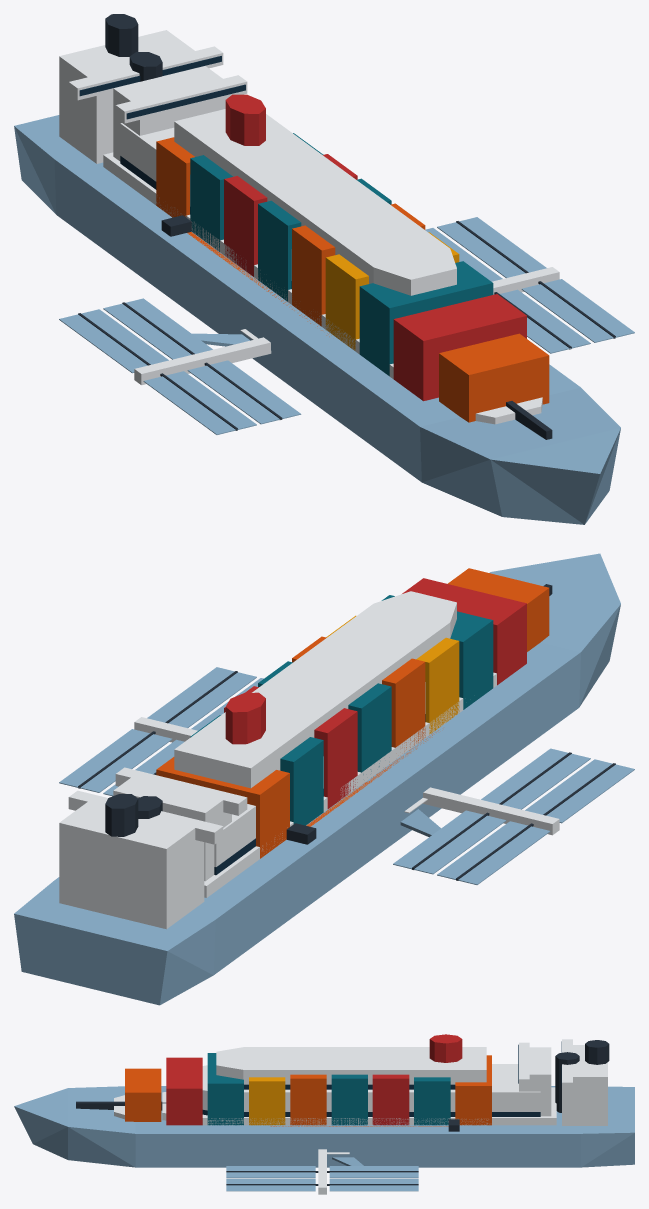
The model's file is traffic-models-v1.glb.
The picture shows the model from 3 angles, top to bottom: view 1: azimuth 30°, elevation 25°; view 2: azimuth 150°, elevation 25°; view 3: azimuth 270°, elevation 25°; orthographic projection. The views are drawn at different scales.
Visible parts, largest first — view 1: LTS_vessel-tanker, LTS_vessel-cargo, LTS_vessel-passenger, LTS_orbital-iss; view 2: LTS_vessel-tanker, LTS_vessel-cargo, LTS_vessel-passenger, LTS_orbital-iss; view 3: LTS_vessel-tanker, LTS_vessel-cargo, LTS_vessel-passenger, LTS_orbital-iss.
Boxes of the visible parts, bbox=[...] form: LTS_vessel-tanker: bbox=[14, 14, 620, 524]; LTS_vessel-cargo: bbox=[113, 52, 549, 422]; LTS_vessel-passenger: bbox=[103, 94, 456, 378]; LTS_orbital-iss: bbox=[59, 217, 634, 434]; LTS_vessel-tanker: bbox=[14, 553, 620, 1005]; LTS_vessel-cargo: bbox=[113, 568, 549, 881]; LTS_vessel-passenger: bbox=[174, 591, 496, 897]; LTS_orbital-iss: bbox=[59, 667, 634, 884]; LTS_vessel-tanker: bbox=[14, 1039, 634, 1167]; LTS_vessel-cargo: bbox=[125, 1042, 579, 1125]; LTS_vessel-passenger: bbox=[162, 1034, 556, 1126]; LTS_orbital-iss: bbox=[226, 1149, 418, 1194].
Size of the model in its own units: 109 by 43 by 230.
